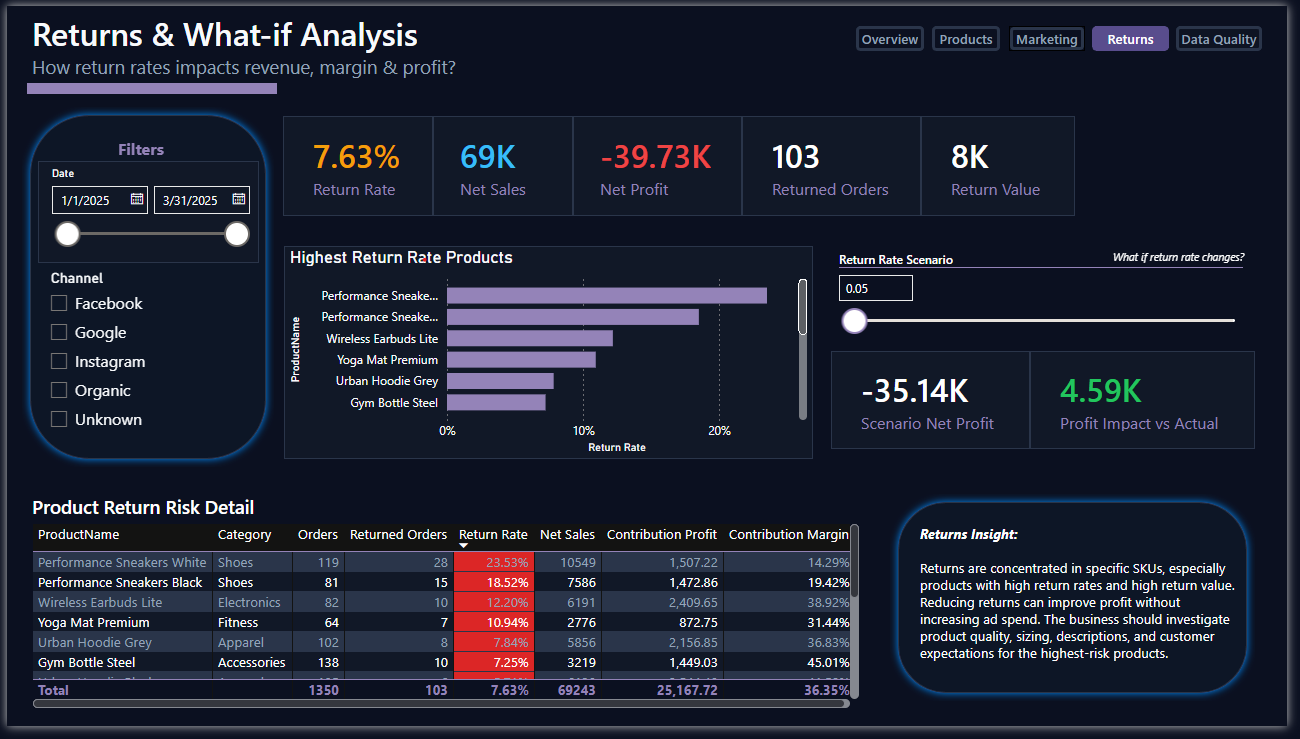

What the dashboard file says about the page in this screenshot:
{"tool":"powerbi","page":{"name":"Returns","canvas":[1280,720],"ordinal":3},"visuals":[{"type":"shape","box":[883.3,488.3,365,206.7],"z":0},{"type":"textbox","box":[20,0,458.6,105.7],"z":1000},{"type":"cardVisual","fields":{"Data":["DAX.Returned Orders"]},"box":[734.6,109.7,179.2,100],"z":2000},{"type":"cardVisual","fields":{"Data":["DAX.Total Returns"]},"box":[913.8,109.7,154.4,100],"z":3000},{"type":"clusteredBarChart","title":"Highest Return Rate Products","fields":{"Category":["Dim_product.ProductName"],"Y":["DAX.Return Rate"]},"box":[277.1,240,528.6,212.9],"z":4000},{"type":"tableEx","title":"Product Return Risk Detail","fields":{"Values":["Dim_product.ProductName","Dim_product.Category","DAX.Orders","DAX.Returned Orders","DAX.Return Rate","DAX.Net Sales","DAX.Contribution Profit","DAX.Contribution Margin"]},"box":[20,487.8,836.7,218.9],"z":5000},{"type":"slicer","fields":{"Values":["Return Rate Scenario.Return Rate Scenario"]},"box":[818.6,240,430,112.9],"z":7000},{"type":"cardVisual","fields":{"Data":["Assumption_Log.Scenario Net Profit"]},"box":[824.3,345,198.6,97.9],"z":8000},{"type":"cardVisual","fields":{"Data":["Assumption_Log.Profit Impact vs Actual"]},"box":[1022.9,345,225,97.9],"z":9000},{"type":"textbox","box":[907.5,514.2,330,166.7],"z":10000},{"type":"textbox","box":[1101.4,236.4,144.3,33.6],"z":11000},{"type":"shape","box":[20,76.7,250,11.7],"z":12000},{"type":"shape","box":[14.5,101.2,252.9,360],"z":13000},{"type":"slicer","fields":{"Values":["Dim_date.Date"]},"box":[31.4,155.2,221,102],"z":14000},{"type":"slicer","fields":{"Values":["Dim_Channel.Channel"]},"box":[31.4,259.2,166,174],"z":15000},{"type":"textbox","box":[106.2,127,69.2,35],"z":16000},{"type":"cardVisual","fields":{"Data":["DAX.Return Rate"]},"box":[276.2,109.8,150,100],"z":17000},{"type":"cardVisual","fields":{"Data":["DAX.Net Sales"]},"box":[426.2,109.7,140,100],"z":18000},{"type":"cardVisual","fields":{"Data":["DAX.Net Profit"]},"box":[566.2,109.7,168.4,100],"z":19000},{"type":"actionButton","box":[849.2,20,67.7,25.4],"z":20000},{"type":"actionButton","box":[924.6,20,68.5,25.4],"z":21000},{"type":"actionButton","box":[1001.5,20,76.9,25.4],"z":22000},{"type":"actionButton","box":[1085,20,77.1,25],"z":23000},{"type":"actionButton","box":[1168.6,20,86.4,25],"z":24000}]}

Visuals, with their boxes in screenshot pixels (x1, y1, x2, y2), scaled from the page's 1280x720 canvas onto the 1300x739 screenshot:
shape: BBox(897, 501, 1268, 713)
textbox: BBox(20, 0, 486, 108)
cardVisual - DAX.Returned Orders: BBox(746, 113, 928, 215)
cardVisual - DAX.Total Returns: BBox(928, 113, 1085, 215)
"Highest Return Rate Products" clusteredBarChart: BBox(281, 246, 818, 465)
"Product Return Risk Detail" tableEx: BBox(20, 501, 870, 725)
slicer - Return Rate Scenario.Return Rate Scenario: BBox(831, 246, 1268, 362)
cardVisual - Assumption_Log.Scenario Net Profit: BBox(837, 354, 1039, 455)
cardVisual - Assumption_Log.Profit Impact vs Actual: BBox(1039, 354, 1267, 455)
textbox: BBox(922, 528, 1257, 699)
textbox: BBox(1119, 243, 1265, 277)
shape: BBox(20, 79, 274, 91)
shape: BBox(15, 104, 272, 473)
slicer - Dim_date.Date: BBox(32, 159, 256, 264)
slicer - Dim_Channel.Channel: BBox(32, 266, 200, 445)
textbox: BBox(108, 130, 178, 166)
cardVisual - DAX.Return Rate: BBox(281, 113, 433, 215)
cardVisual - DAX.Net Sales: BBox(433, 113, 575, 215)
cardVisual - DAX.Net Profit: BBox(575, 113, 746, 215)
actionButton: BBox(862, 21, 931, 47)
actionButton: BBox(939, 21, 1009, 47)
actionButton: BBox(1017, 21, 1095, 47)
actionButton: BBox(1102, 21, 1180, 46)
actionButton: BBox(1187, 21, 1275, 46)
